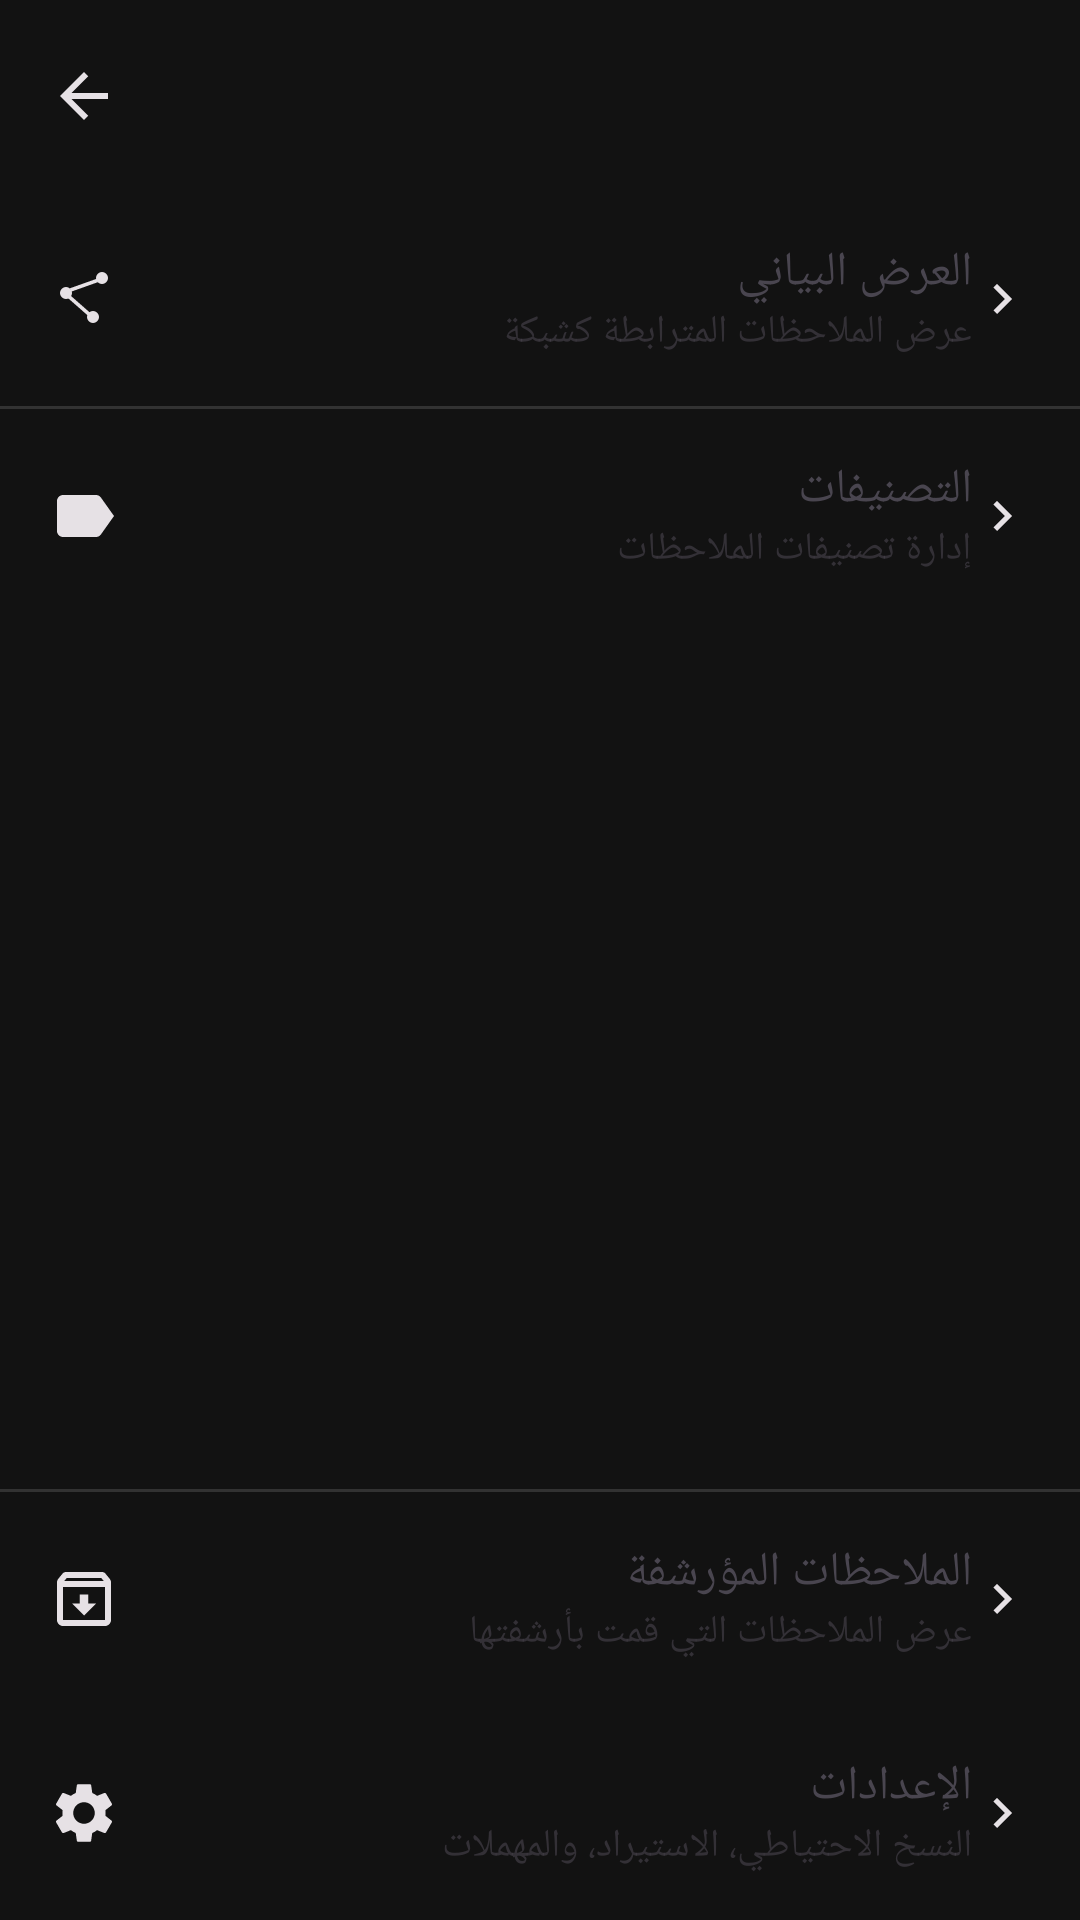

Icons on this 1080*1920 Android screen, each with the point to tap as [x,y]:
archive: [84,1599]
chevron right: [1002,299], [1002,516], [1002,1599], [1002,1813]
graph: [84,297]
label: [85,516]
settings: [84,1813]
